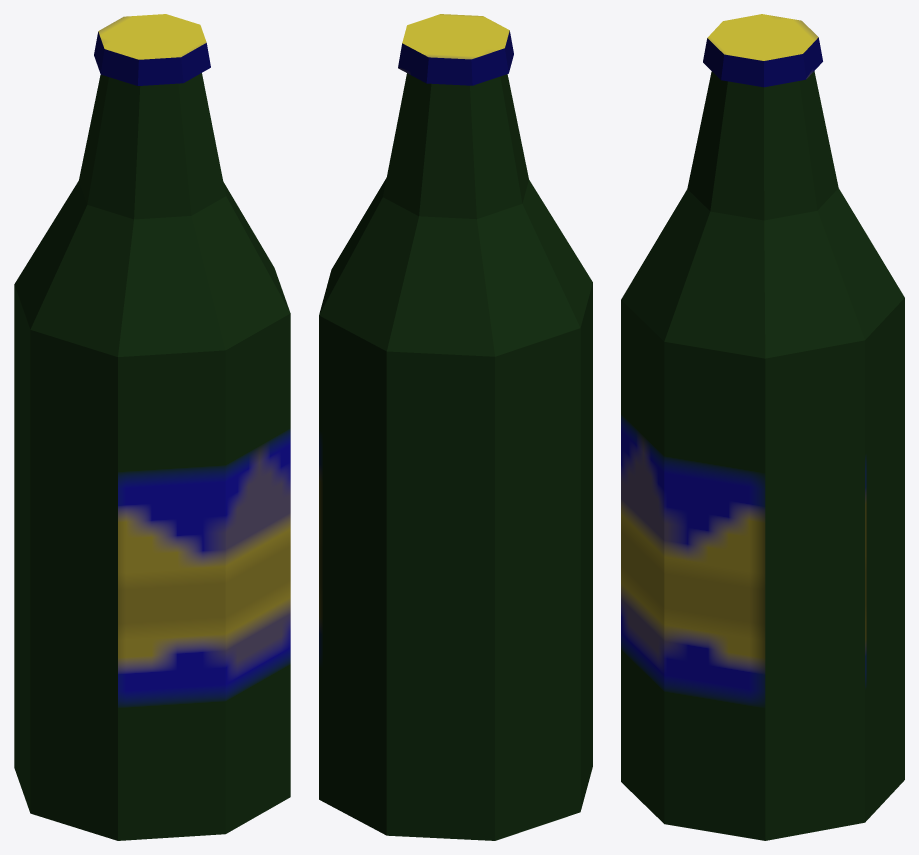
Rendered from Bottle.fbx.
3 views of the same model, side by side, from view 1: azimuth 30°, elevation 25°; view 2: azimuth 150°, elevation 25°; view 3: azimuth 270°, elevation 25° (orthographic).
Parts seen in each view (by area): view 1: bottle.004; view 2: bottle.004; view 3: bottle.004.
Part boxes in pixels (x1,y1,x2,y2): bottle.004: [14, 14, 290, 840]; bottle.004: [319, 14, 592, 840]; bottle.004: [621, 14, 904, 840].
Bounding box in the file's own units: 8 × 23.12 × 8.
Materials: 1 (1 with a texture image).
